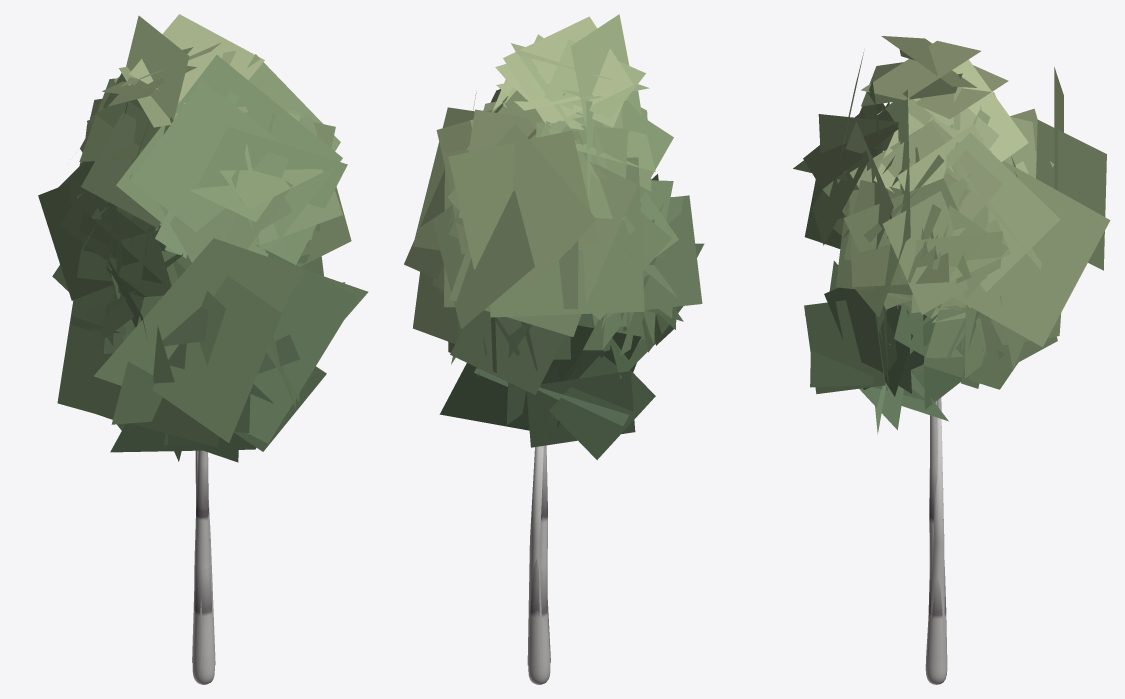
File: silver_birch_v4.glb
3 renders of one model, left to right at view 1: azimuth 30°, elevation 25°; view 2: azimuth 150°, elevation 25°; view 3: azimuth 270°, elevation 25°, orthographic. The views are drawn at different scales.
Parts seen in each view (by area): view 1: near, far; view 2: near, far; view 3: near, far.
Boxes of the visible parts, x1,y1,x2,y2 form: near: (38, 14, 351, 684); far: (52, 54, 368, 668); near: (413, 14, 704, 684); far: (404, 107, 673, 668); near: (793, 36, 1060, 684); far: (859, 67, 1110, 668).
Bounding box in the file's own units: 6.2 × 14.44 × 7.4.
